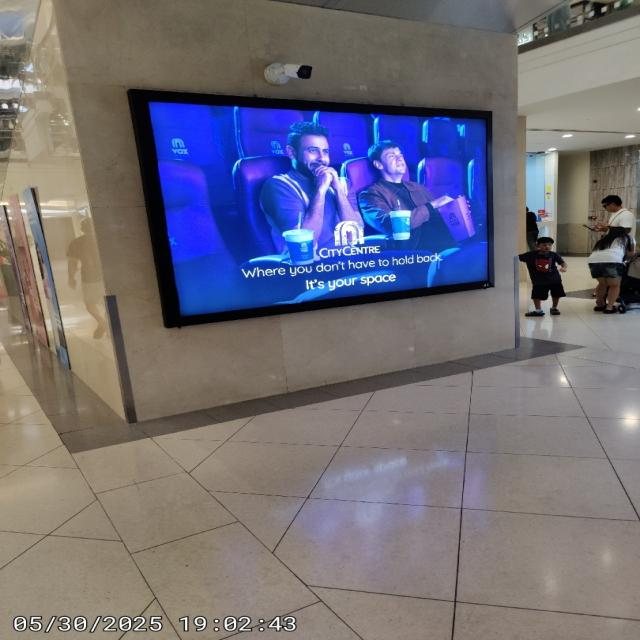digital-board-medium: (133, 90, 489, 327)
